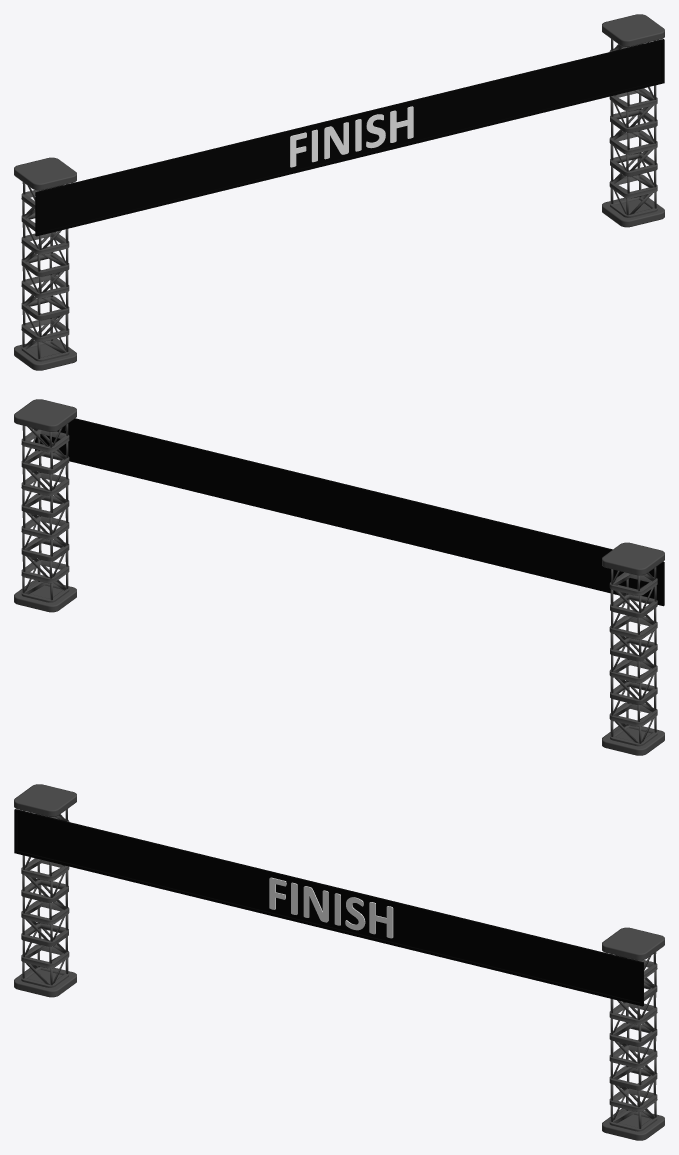
Rendered from finish_line.obj.
The picture shows the model from 3 angles, top to bottom: view 1: azimuth 30°, elevation 25°; view 2: azimuth 150°, elevation 25°; view 3: azimuth 330°, elevation 25°; orthographic projection.
Parts seen in each view (by area): view 1: obj5, obj1, obj3, obj2, obj4; view 2: obj5, obj1, obj3, obj4; view 3: obj5, obj1, obj3, obj2, obj4.
Part boxes in pixels (left/top/right/bottom): obj5: left=35, top=39, right=664, bottom=236; obj1: left=21, top=39, right=657, bottom=361; obj3: left=14, top=14, right=664, bottom=190; obj2: left=290, top=106, right=413, bottom=167; obj4: left=14, top=195, right=664, bottom=370; obj5: left=35, top=418, right=664, bottom=606; obj1: left=21, top=424, right=657, bottom=746; obj3: left=14, top=399, right=664, bottom=575; obj4: left=14, top=580, right=664, bottom=755; obj5: left=14, top=809, right=643, bottom=1006; obj1: left=21, top=809, right=657, bottom=1131; obj3: left=14, top=784, right=664, bottom=960; obj2: left=269, top=877, right=393, bottom=938; obj4: left=14, top=965, right=664, bottom=1140.
Bounding box in the file's own units: 15.16 × 4.28 × 1.05.
